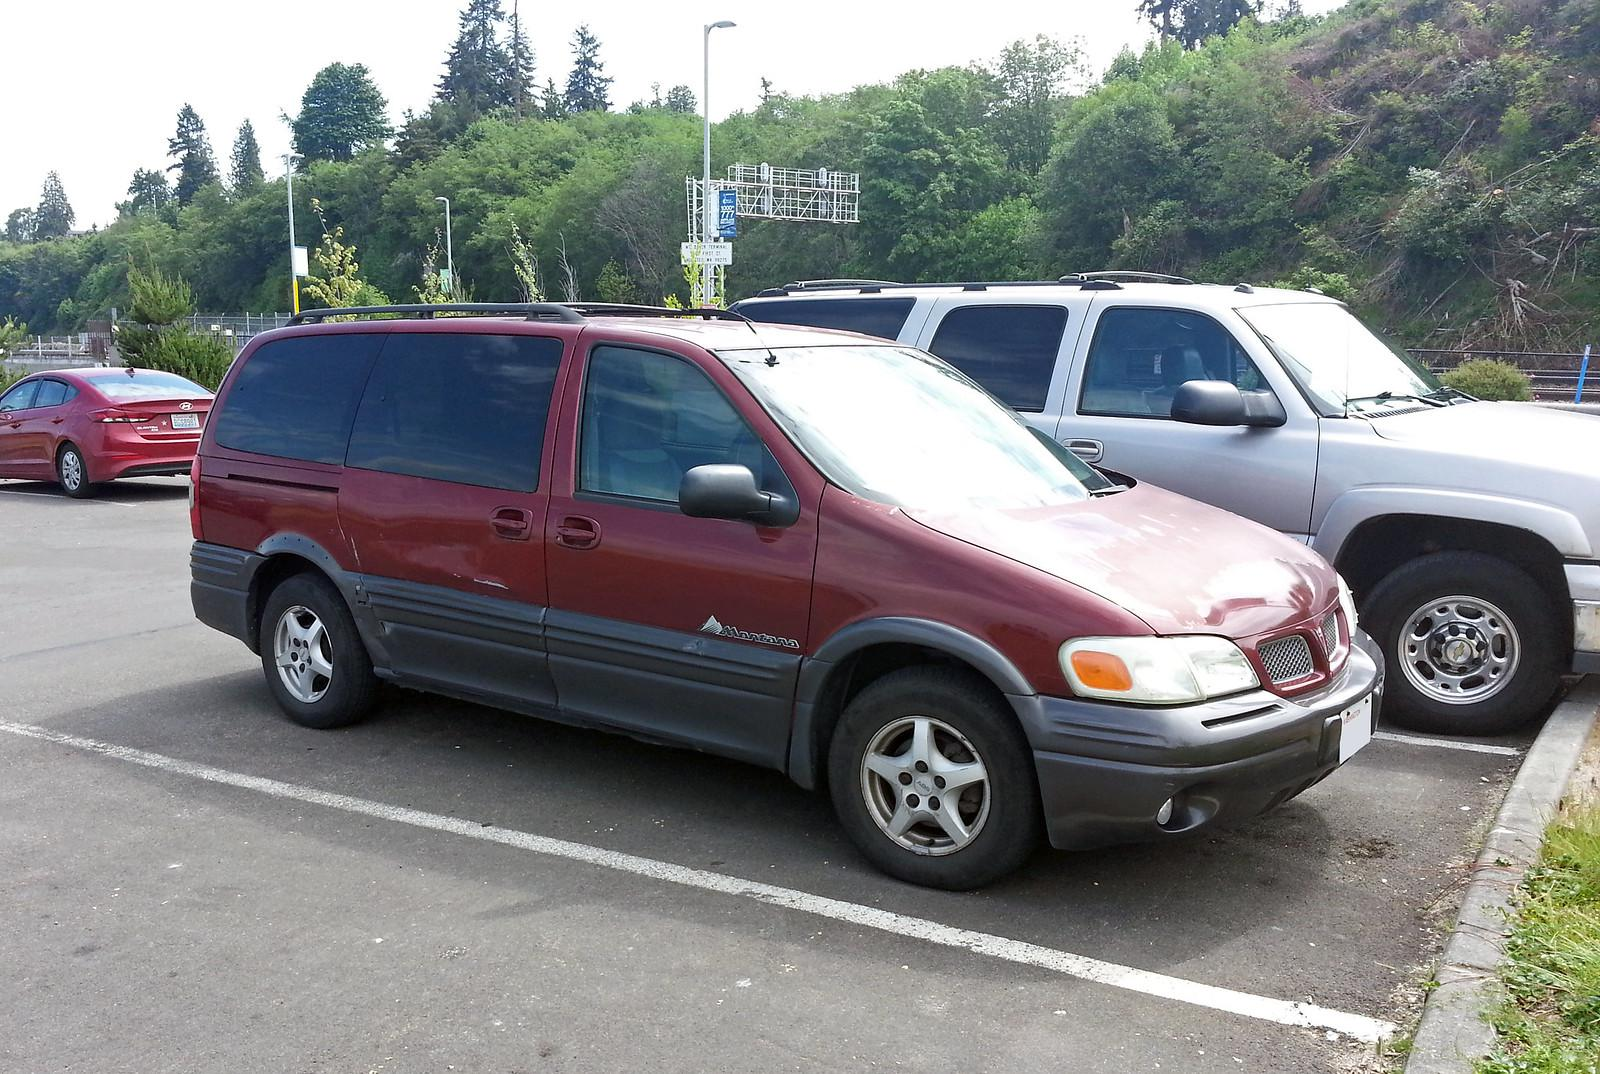doorouter-dent: (345, 473, 561, 678)
